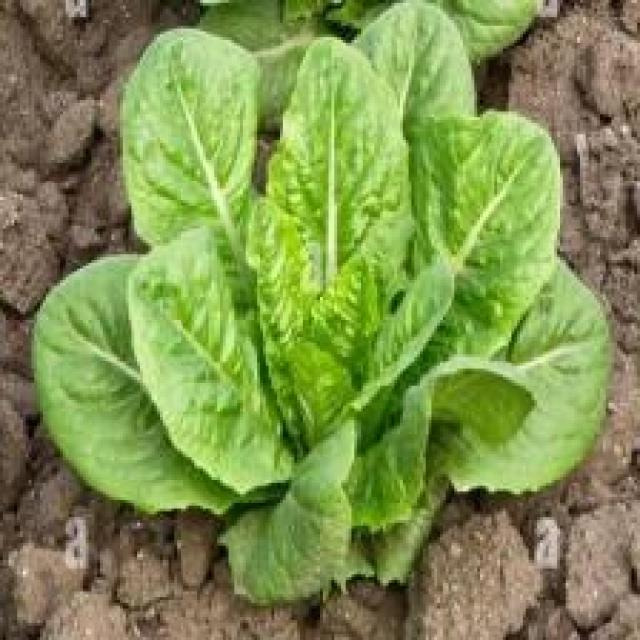Lettuce: (44, 12, 602, 588)
